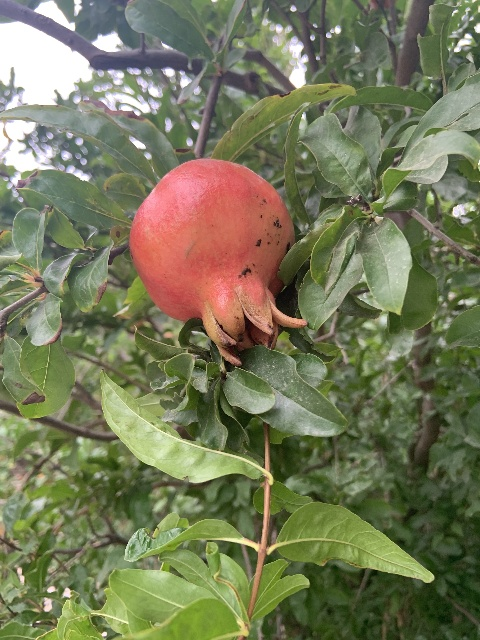ripe: (129, 158, 307, 365)
